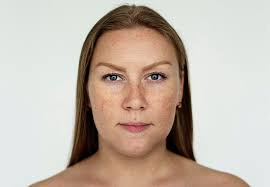s.white: (145, 87, 177, 132)
